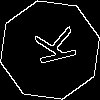K: (25, 25, 78, 70)
